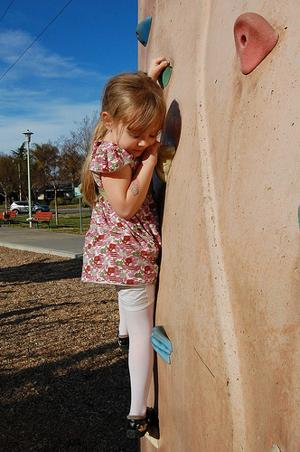person: (83, 58, 167, 440)
